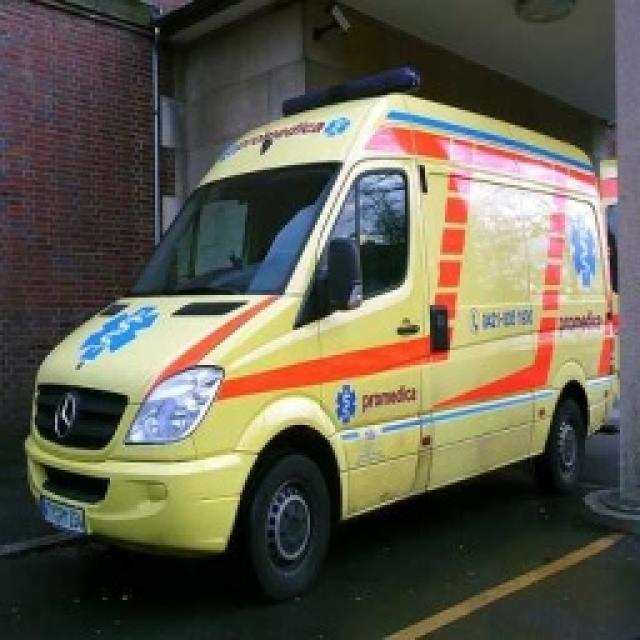emergency-vehicle: (13, 65, 640, 605)
